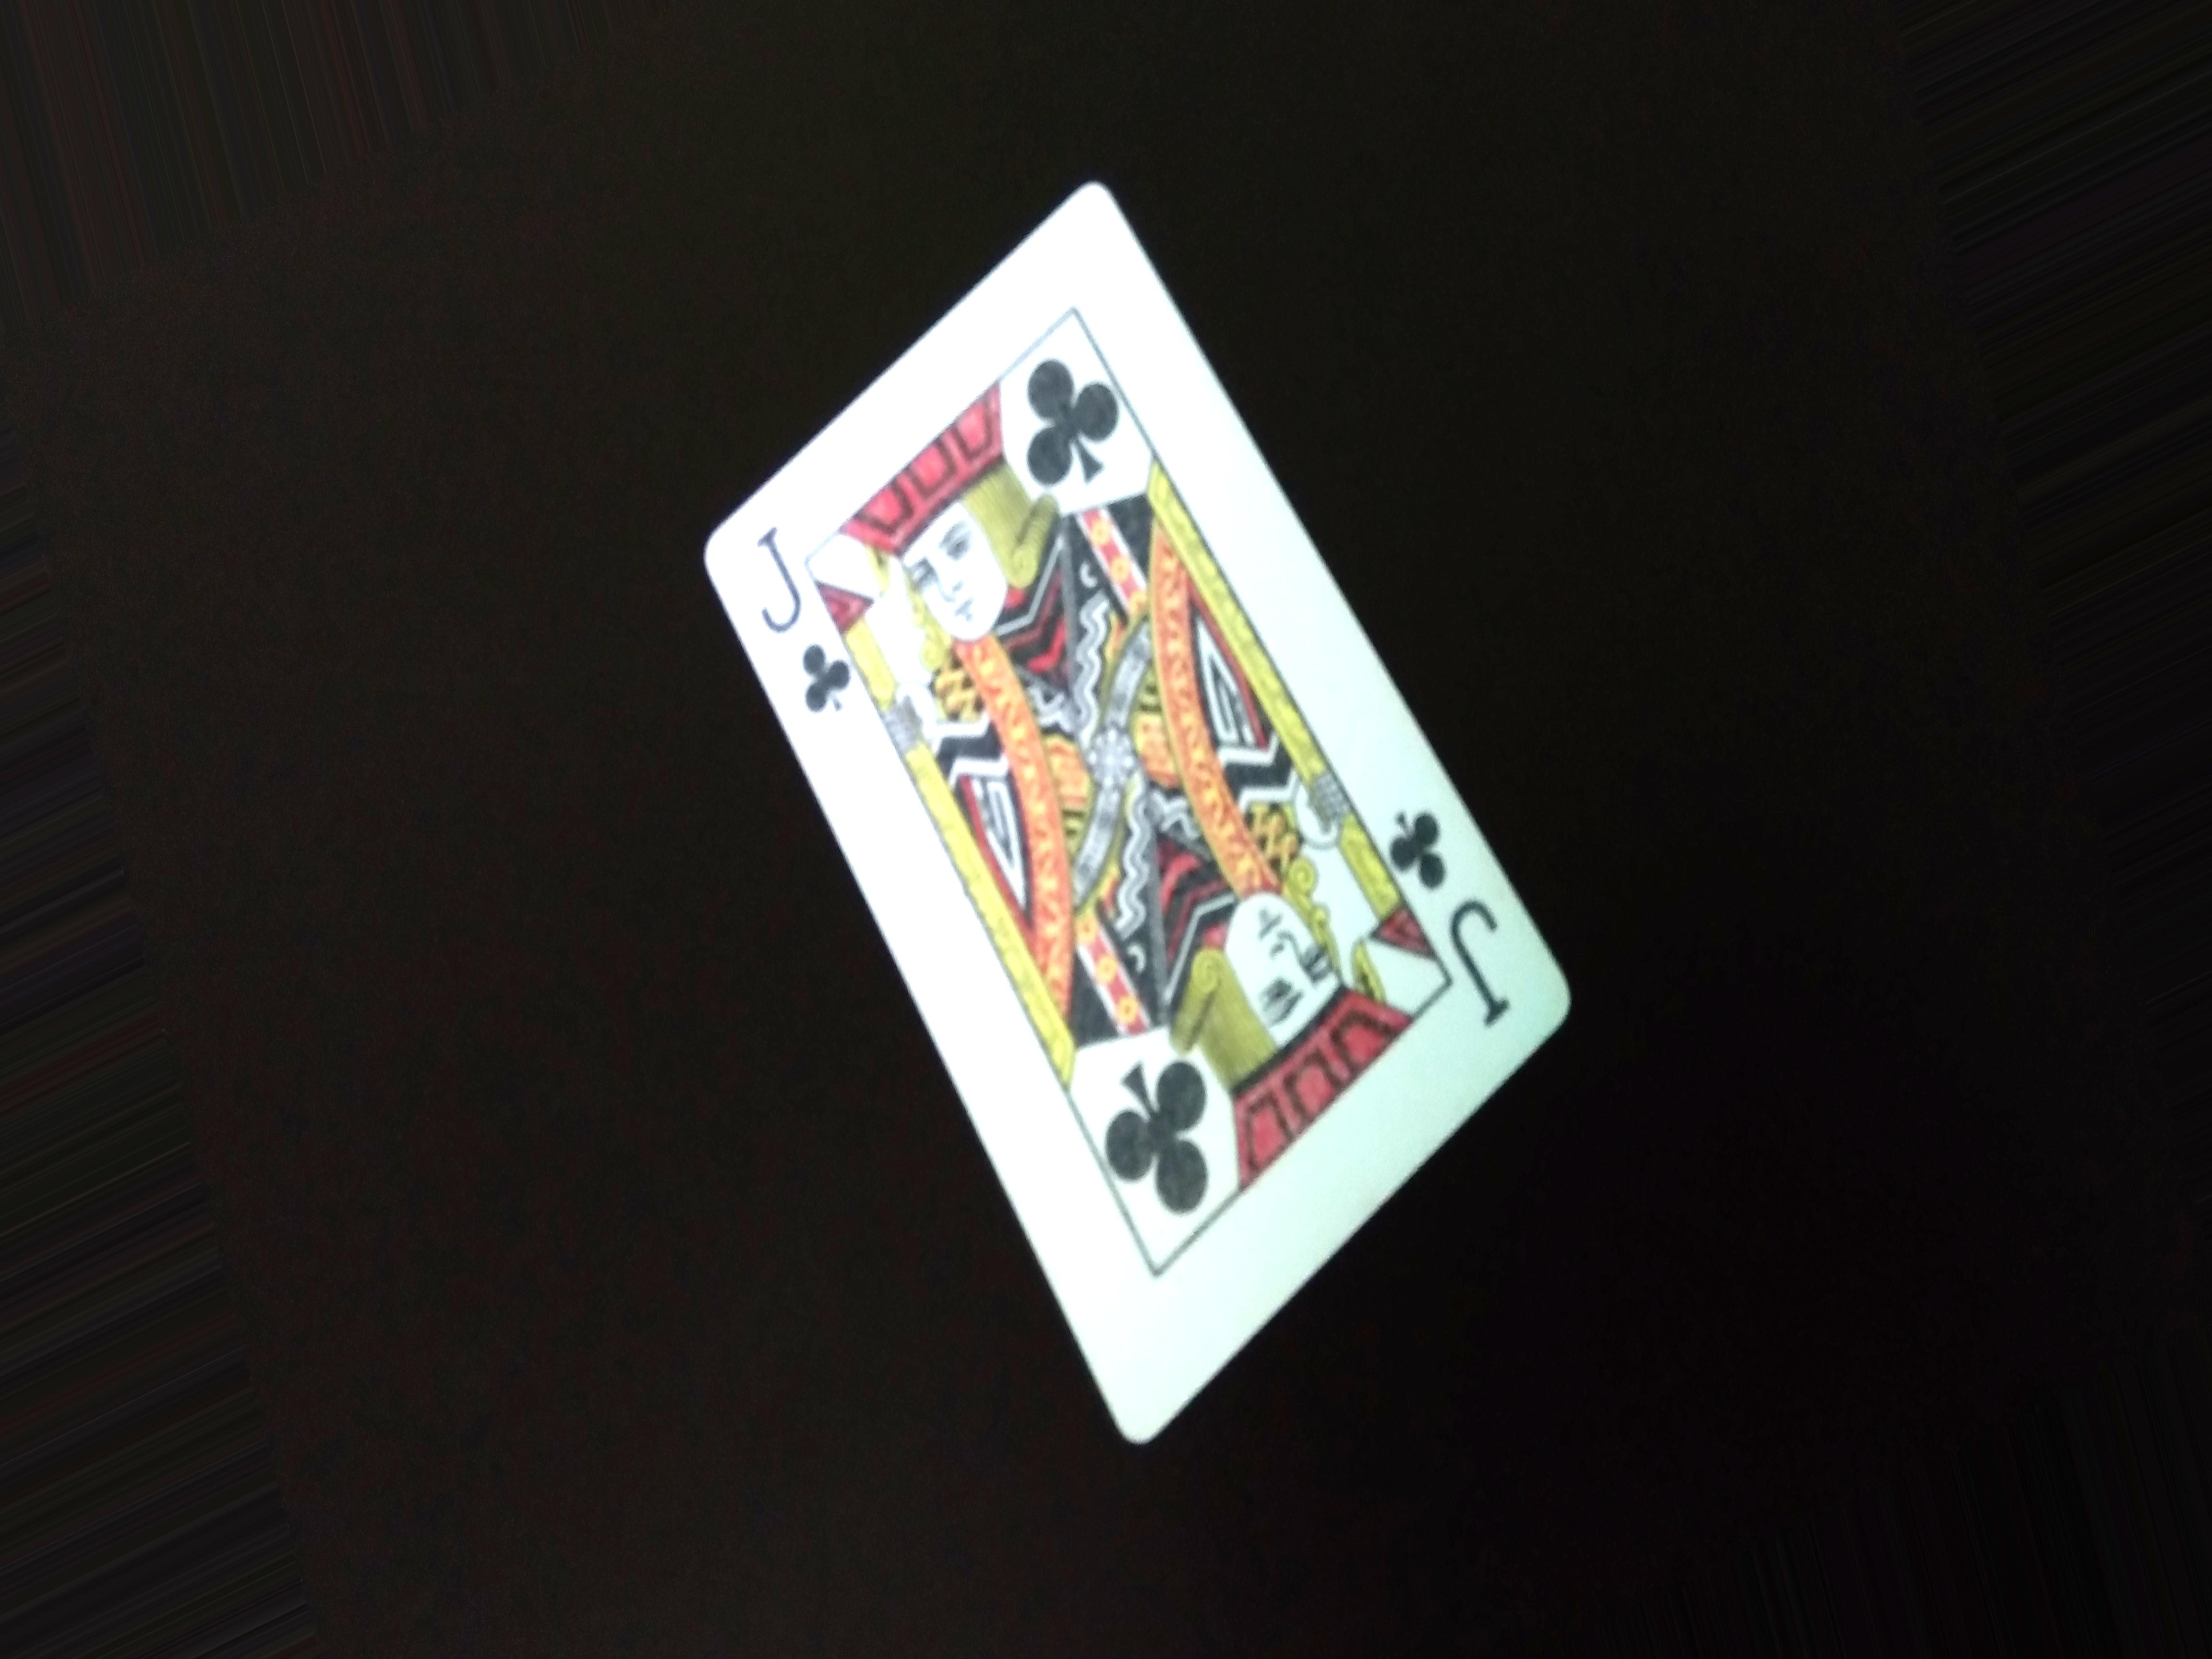JC: (1390, 809, 1519, 1026)
